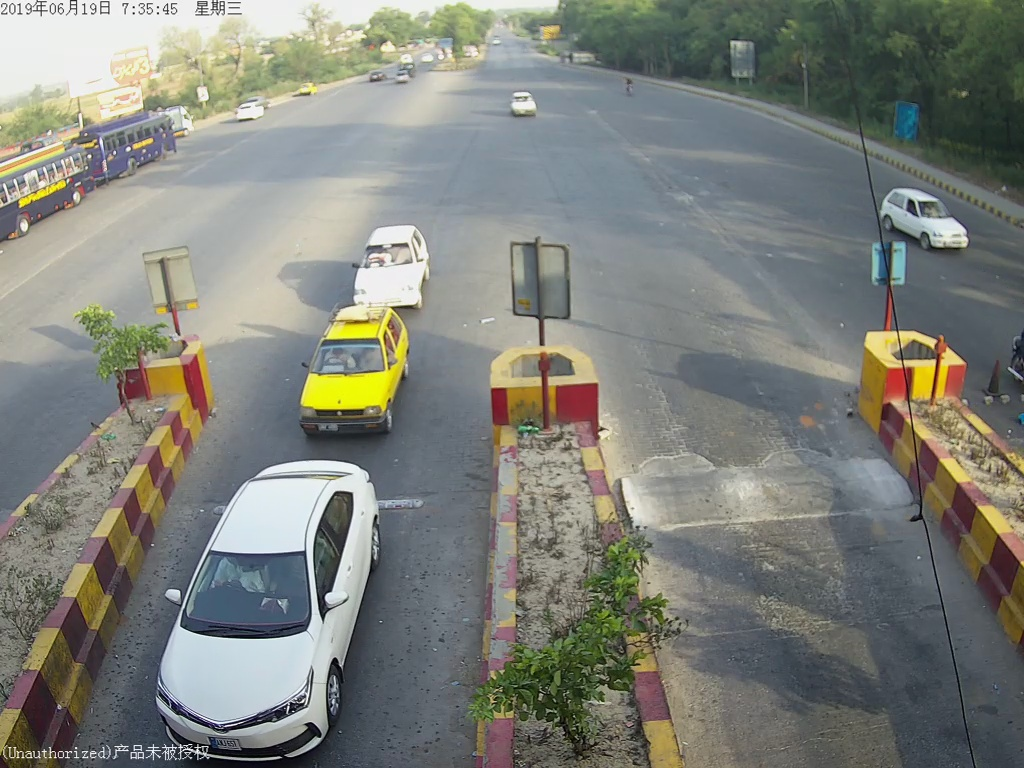Cat-1: (156, 461, 394, 747), (290, 312, 412, 442), (356, 224, 428, 307)
